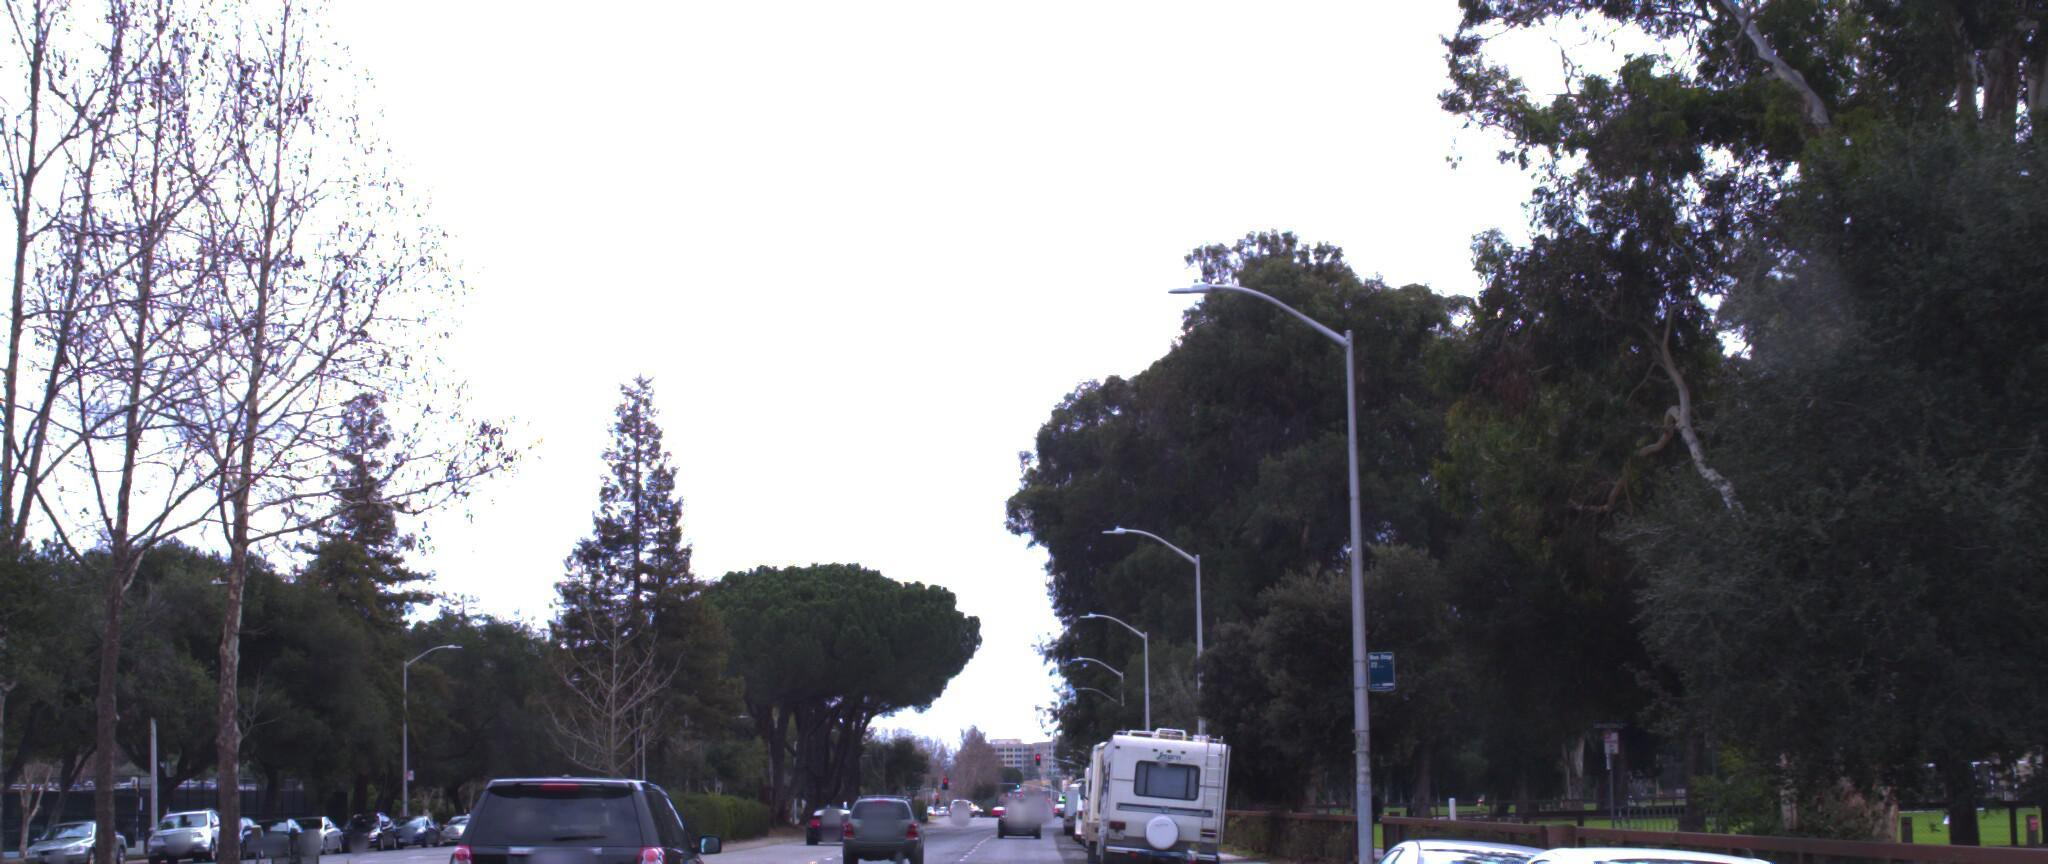car: (1618, 656, 2048, 864), (431, 758, 717, 864), (1368, 824, 1896, 864), (1273, 814, 1633, 864), (1522, 846, 2048, 864), (0, 780, 101, 864), (850, 767, 931, 843)
other_vehicle: (1079, 701, 1226, 864), (1070, 709, 1185, 855)
